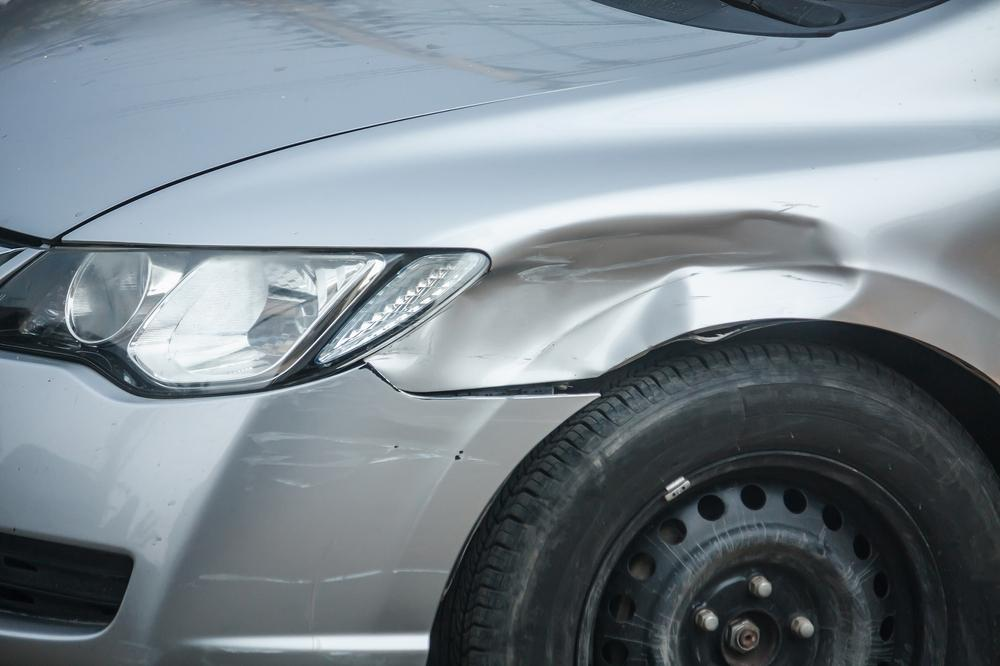dent: (368, 213, 868, 387)
scratch: (232, 427, 500, 497), (194, 562, 451, 589)
